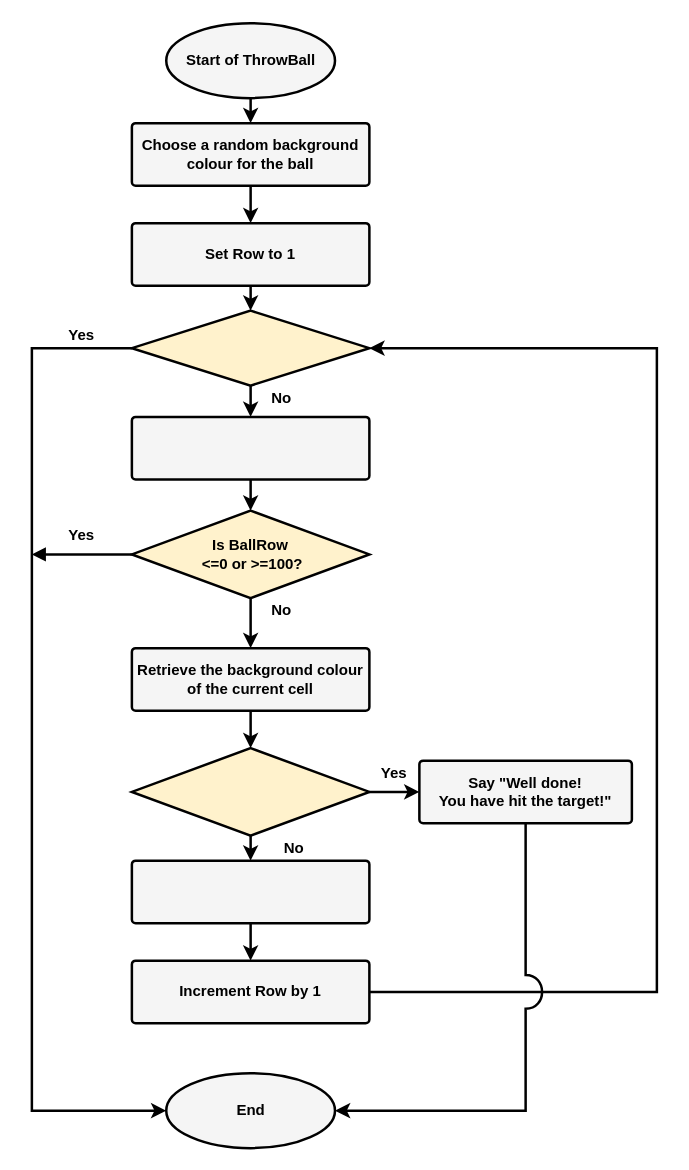
The diagram is 689 pixels wide and 1170 high, and some of its shapes have lost their labels. The shapes that lost their labels are listed below. From the top down, each one's box as (x1, y1, x2, y2) in pixels, then its label:
(130, 309, 370, 386): Is Row = 100?
(130, 415, 370, 480): Retrieve BallRow and BallColumn from the Calculations worksheet
(130, 746, 370, 836): Is it red (the target colour)?
(130, 859, 370, 924): Change the cell background colour to the the ball background colour
